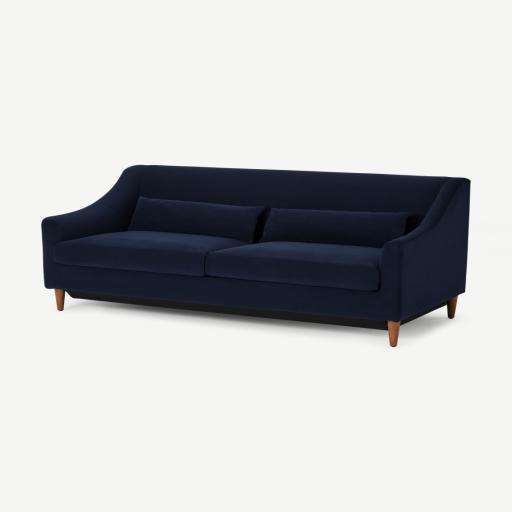back_cushion: (130, 165, 448, 247)
base: (59, 266, 387, 321)
left_arm: (381, 179, 470, 319)
legs: (385, 321, 400, 347), (54, 289, 64, 311), (452, 298, 456, 305)
right_arm: (42, 166, 143, 285)
seat_cushion: (54, 228, 380, 290)
two-seater: (0, 0, 511, 512)
